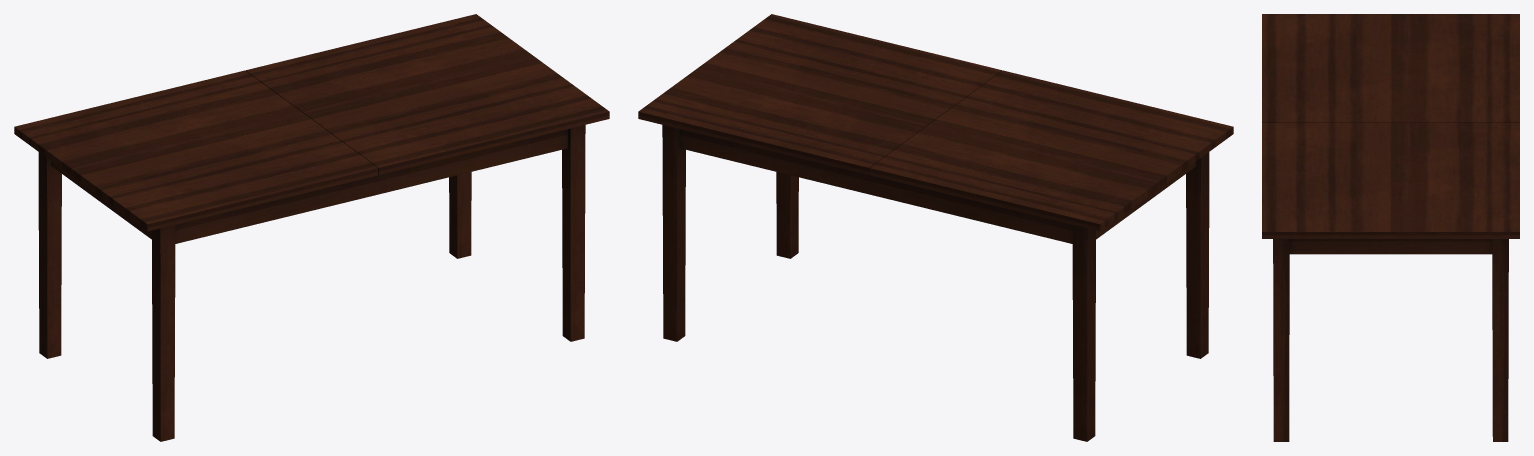
Rendered from table_extending_web.glb.
The picture shows the model from 3 angles, left to right: view 1: azimuth 30°, elevation 25°; view 2: azimuth 150°, elevation 25°; view 3: azimuth 270°, elevation 25°; orthographic projection. The views are drawn at different scales.
Parts seen in each view (by area): view 1: TableExtending_Mesh; view 2: TableExtending_Mesh; view 3: TableExtending_Mesh.
Part boxes in pixels (left/top/right/bottom): TableExtending_Mesh: left=14, top=14, right=609, bottom=441; TableExtending_Mesh: left=638, top=14, right=1233, bottom=441; TableExtending_Mesh: left=1262, top=14, right=1519, bottom=441.
Size of the model in its own units: 1.6 by 0.75 by 0.8.
1 material, 1 textured.
